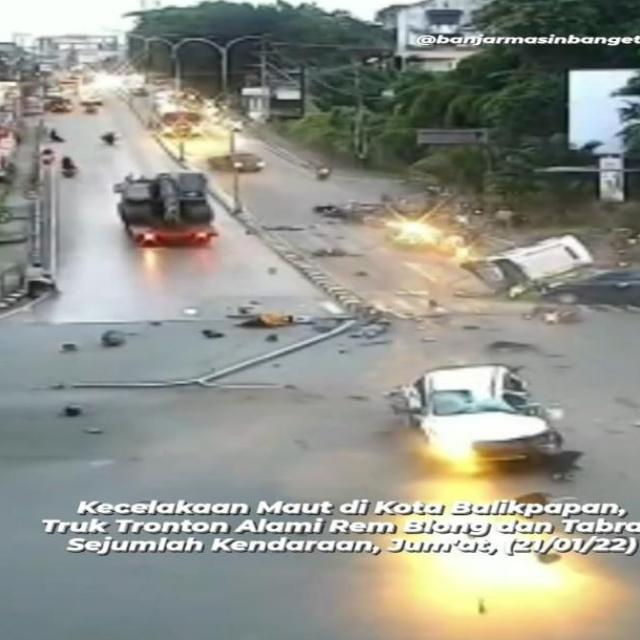accident: (379, 354, 593, 482), (299, 188, 485, 280), (468, 237, 640, 309)
non_accident: (105, 167, 222, 253), (207, 142, 265, 177), (311, 148, 341, 181)
